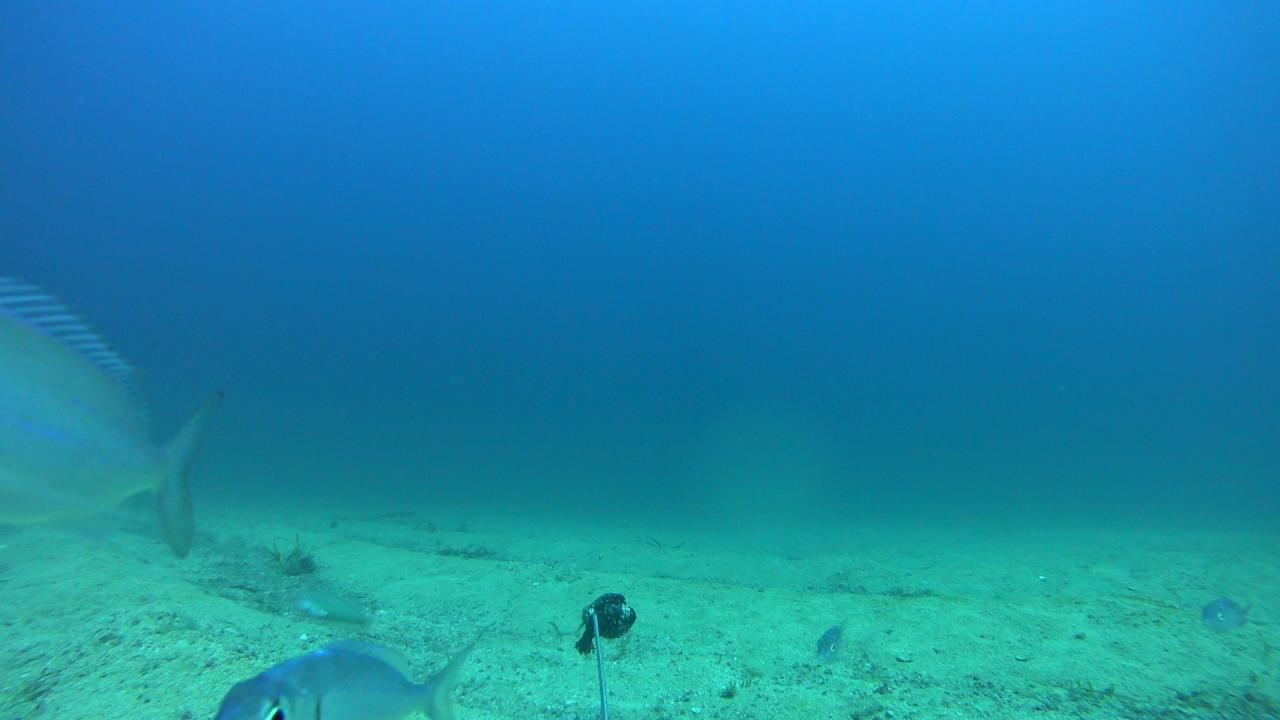pagellus: (1201, 596, 1252, 634), (814, 620, 847, 664)
